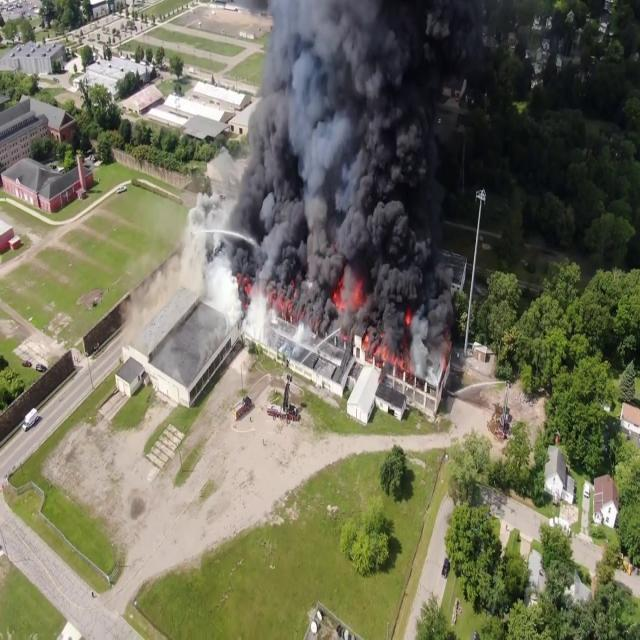Smoke: (197, 0, 504, 309)
